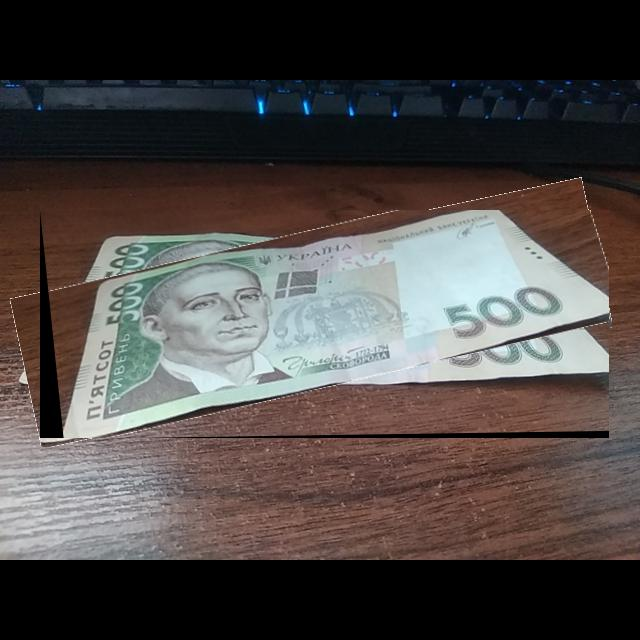500uah: (59, 210, 610, 439)
